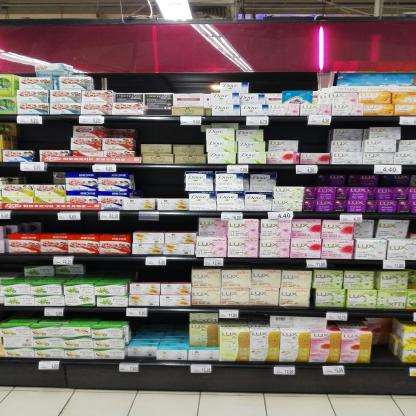Void: (29, 215, 190, 230), (85, 260, 190, 282), (280, 171, 414, 187), (112, 73, 221, 90), (139, 170, 187, 197), (273, 120, 323, 139), (138, 314, 181, 334), (23, 126, 67, 145), (254, 75, 313, 89), (374, 324, 396, 358), (149, 124, 190, 142), (340, 116, 390, 127), (300, 144, 327, 152), (6, 259, 18, 274), (402, 128, 415, 140)
